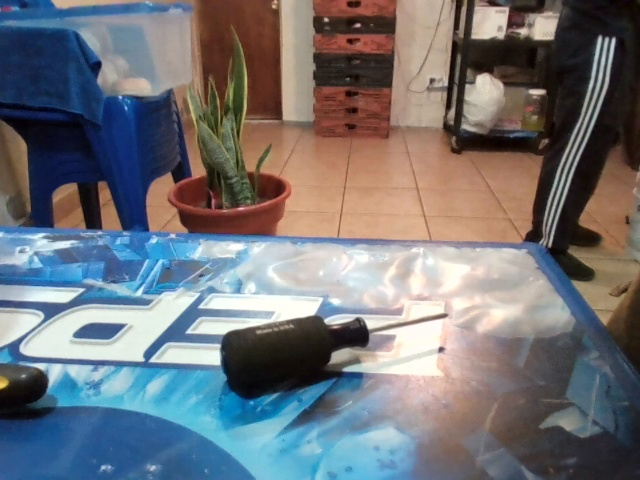destornillador: (219, 310, 449, 400), (0, 362, 49, 413)
